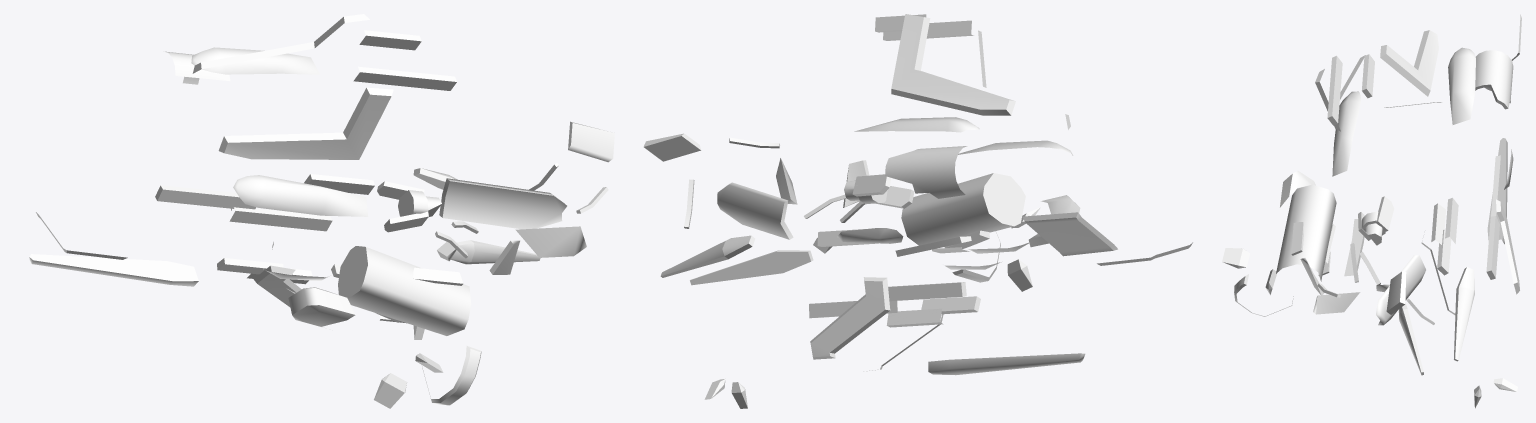
The model's file is prop_static_ama_shipwreck_01_03.glb.
The picture shows the model from 3 angles, left to right: view 1: azimuth 30°, elevation 25°; view 2: azimuth 150°, elevation 25°; view 3: azimuth 270°, elevation 25°; orthographic projection. The views are drawn at different scales.
Visible parts, largest first — view 1: ama_ship_wreck_details_01_03_LOD0, ama_ship_wreck_01_03_LOD0; view 2: ama_ship_wreck_details_01_03_LOD0, ama_ship_wreck_01_03_LOD0; view 3: ama_ship_wreck_details_01_03_LOD0, ama_ship_wreck_01_03_LOD0.
Boxes of the visible parts, left/top/right/bottom form: ama_ship_wreck_details_01_03_LOD0: left=155, top=30, right=614, bottom=335; ama_ship_wreck_01_03_LOD0: left=29, top=14, right=540, bottom=408; ama_ship_wreck_details_01_03_LOD0: left=643, top=14, right=1025, bottom=327; ama_ship_wreck_01_03_LOD0: left=660, top=14, right=1192, bottom=408; ama_ship_wreck_details_01_03_LOD0: left=1276, top=50, right=1513, bottom=325; ama_ship_wreck_01_03_LOD0: left=1222, top=14, right=1521, bottom=408.
Size of what is drawn, in the model's own units: 7.55 by 5.14 by 4.47.
2 materials, 2 textured.
